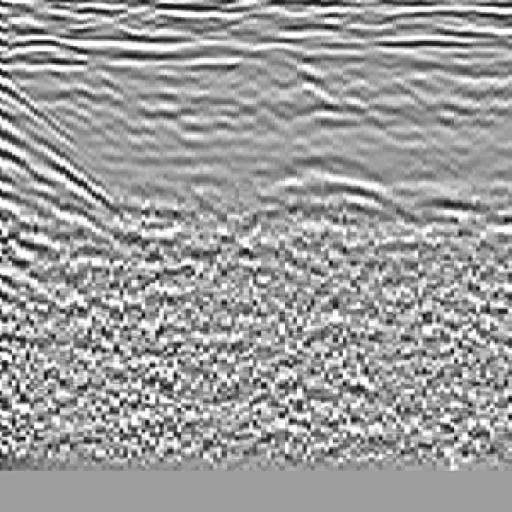metalic: (233, 46, 420, 244)
nonmetalic: (1, 53, 121, 246)
